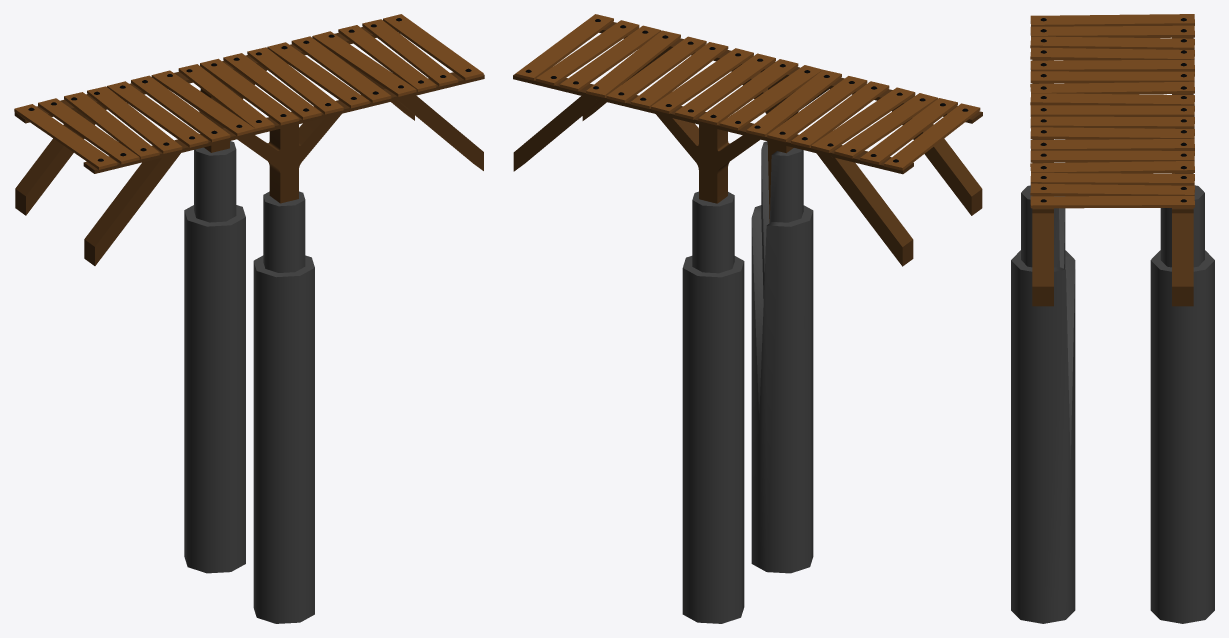
File: Bridge.fbx
3 renders of one model, left to right at view 1: azimuth 30°, elevation 25°; view 2: azimuth 150°, elevation 25°; view 3: azimuth 270°, elevation 25°, orthographic.
Parts seen in each view (by area): view 1: Cube.004; view 2: Cube.004; view 3: Cube.004.
Boxes of the visible parts, x1,y1,x2,y2 form: Cube.004: (14, 14, 484, 623); Cube.004: (513, 14, 982, 623); Cube.004: (1011, 14, 1214, 623).
Bounding box in the file's own units: 4200 × 5107 × 1881.
